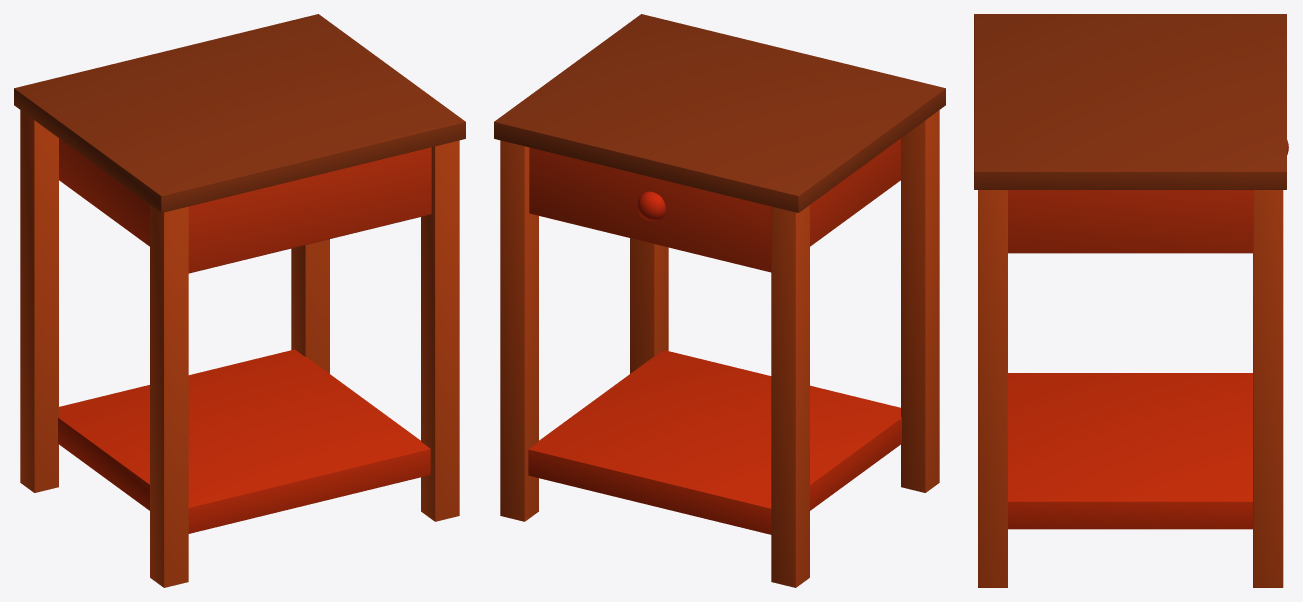
File: Cruz_Table_01.fbx
The picture shows the model from 3 angles, left to right: view 1: azimuth 30°, elevation 25°; view 2: azimuth 150°, elevation 25°; view 3: azimuth 270°, elevation 25°; orthographic projection. The views are drawn at different scales.
Visible parts, largest first — view 1: Cube, Cube.001, Cube.002, Cube.003; view 2: Cube, Cube.001, Cube.002, Cube.003, Cube.004; view 3: Cube, Cube.002, Cube.001, Cube.003.
Part boxes in pixels (x1=…): Cube: x1=14, y1=14, x2=465, y2=212; Cube.001: x1=20, y1=110, x2=459, y2=587; Cube.002: x1=58, y1=349, x2=430, y2=533; Cube.003: x1=59, y1=138, x2=431, y2=273; Cube: x1=494, y1=14, x2=945, y2=212; Cube.001: x1=500, y1=110, x2=939, y2=587; Cube.002: x1=528, y1=350, x2=901, y2=534; Cube.003: x1=529, y1=138, x2=900, y2=272; Cube.004: x1=637, y1=191, x2=665, y2=220; Cube: x1=974, y1=14, x2=1286, y2=189; Cube.002: x1=1008, y1=373, x2=1252, y2=529; Cube.001: x1=978, y1=190, x2=1283, y2=587; Cube.003: x1=1008, y1=190, x2=1252, y2=253.
Bounding box in the file's own units: 46.99 × 58.13 × 39.6.
